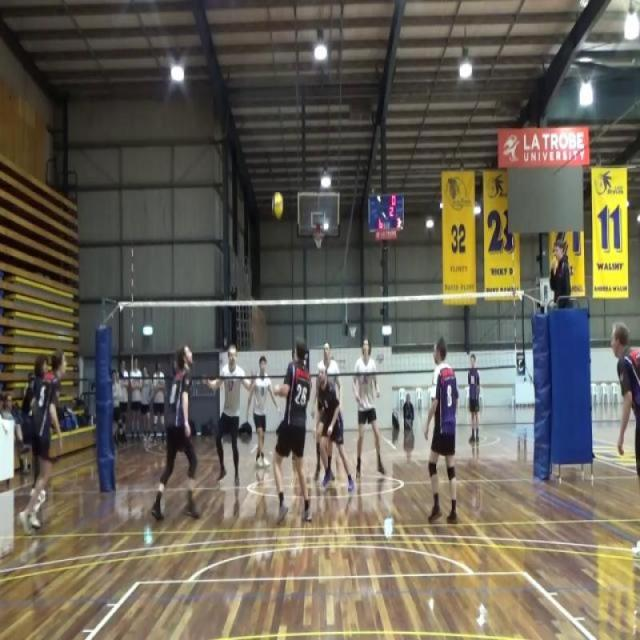volleyball: (272, 190, 284, 220)
